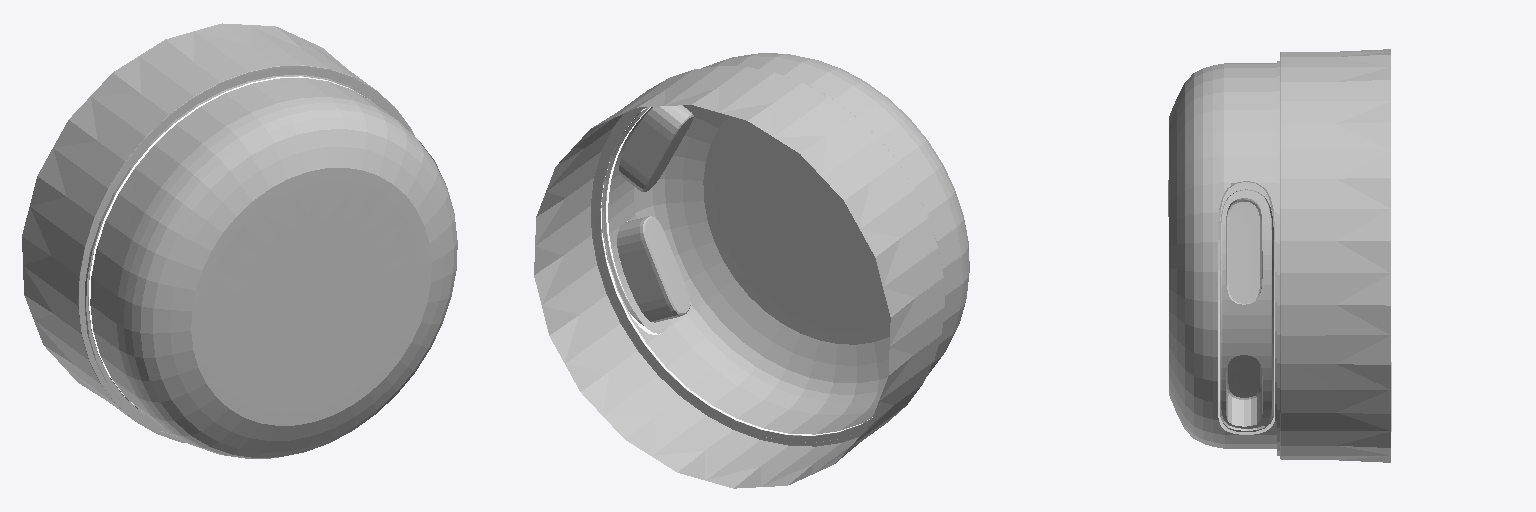
File: rplidar.obj
3 renders of one model, left to right at view 1: azimuth 30°, elevation 25°; view 2: azimuth 150°, elevation 25°; view 3: azimuth 270°, elevation 25°, orthographic.
Parts seen in each view (by area): view 1: pasted__polySurface34, pasted__polySurface33; view 2: pasted__polySurface34, pasted__polySurface29; view 3: pasted__polySurface34, pasted__polySurface33, pasted__polySurface29.
Boxes of the visible parts, x1=… form: pasted__polySurface34: x1=22, y1=23, x2=457, y2=458; pasted__polySurface33: x1=85, y1=75, x2=387, y2=436; pasted__polySurface34: x1=534, y1=53, x2=969, y2=488; pasted__polySurface29: x1=601, y1=107, x2=649, y2=325; pasted__polySurface34: x1=1168, y1=49, x2=1391, y2=462; pasted__polySurface33: x1=1277, y1=61, x2=1279, y2=455; pasted__polySurface29: x1=1220, y1=189, x2=1273, y2=430.
Size of the model in its own units: 0.0685 by 0.0685 by 0.0371.